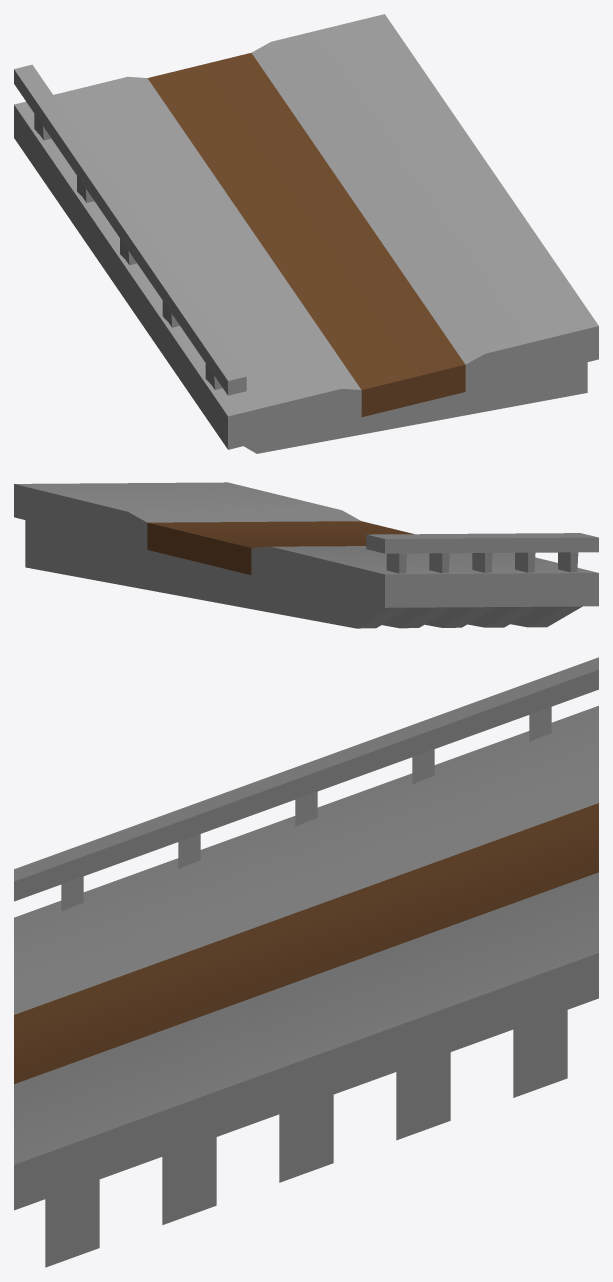
File: BlocLine5P2R.FBX
3 renders of one model, top to bottom at view 1: azimuth 30°, elevation 25°; view 2: azimuth 150°, elevation 25°; view 3: azimuth 270°, elevation 25°, orthographic. The views are drawn at different scales.
Parts seen in each view (by area): view 1: BlocLine5P2R; view 2: BlocLine5P2R; view 3: BlocLine5P2R.
Boxes of the visible parts, bbox=[...] form: BlocLine5P2R: bbox=[14, 14, 598, 453]; BlocLine5P2R: bbox=[14, 482, 598, 628]; BlocLine5P2R: bbox=[14, 657, 598, 1267].
Size of the model in its own units: 5 by 3.43 by 5.
